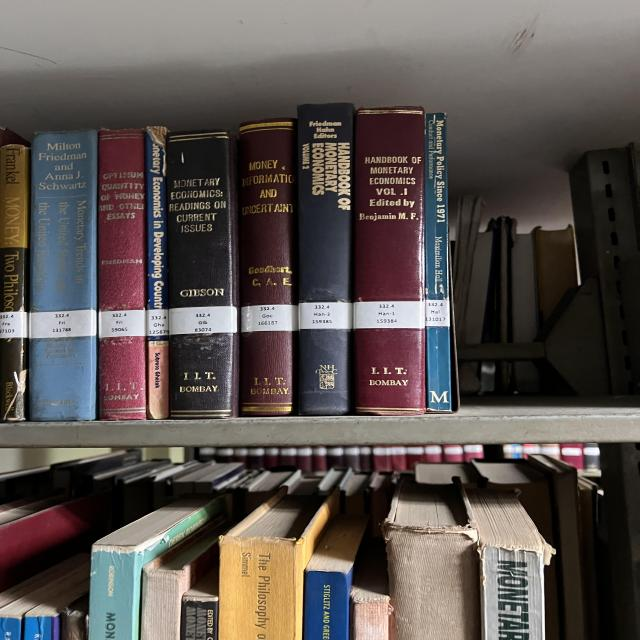Book: (353, 106, 425, 415), (167, 130, 238, 419), (88, 496, 227, 640), (30, 130, 98, 421), (220, 488, 338, 640), (298, 102, 355, 415), (238, 119, 298, 416), (382, 479, 480, 640), (98, 129, 147, 420), (468, 490, 545, 640), (140, 516, 232, 640), (425, 112, 453, 411), (0, 145, 30, 420), (145, 126, 170, 419), (305, 570, 352, 640), (182, 568, 218, 640), (352, 602, 390, 640)
Label: (28, 309, 97, 339), (168, 306, 238, 335), (353, 301, 425, 329), (298, 302, 352, 330), (242, 305, 298, 332), (98, 310, 147, 338), (0, 311, 28, 339), (425, 300, 450, 326), (147, 309, 168, 336)
